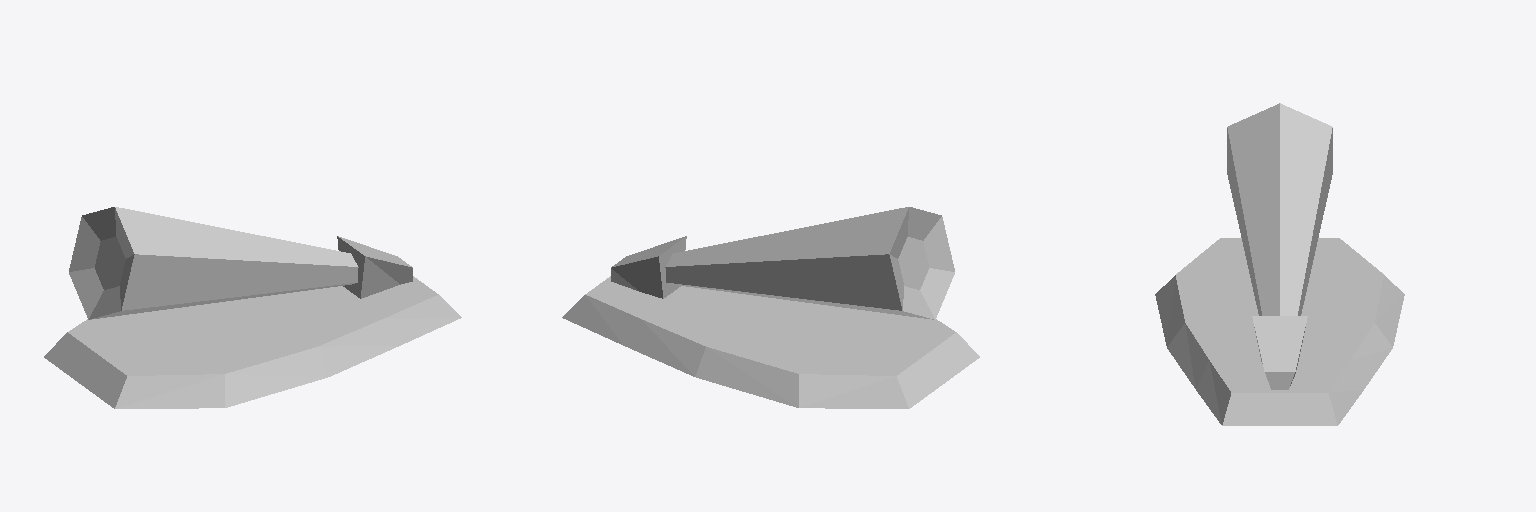
Rendered from M_Torch_01.obj.
The picture shows the model from 3 angles: view 1: azimuth 30°, elevation 25°; view 2: azimuth 150°, elevation 25°; view 3: azimuth 270°, elevation 25°; orthographic projection.
Bounding box in the file's own units: 7.82 × 3.54 × 4.77.